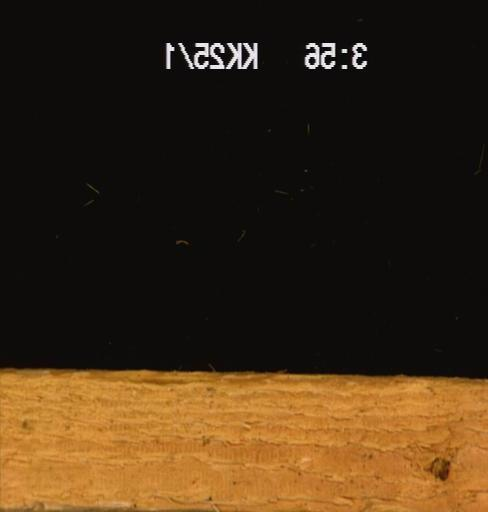dry_knot: (426, 454, 452, 481)
